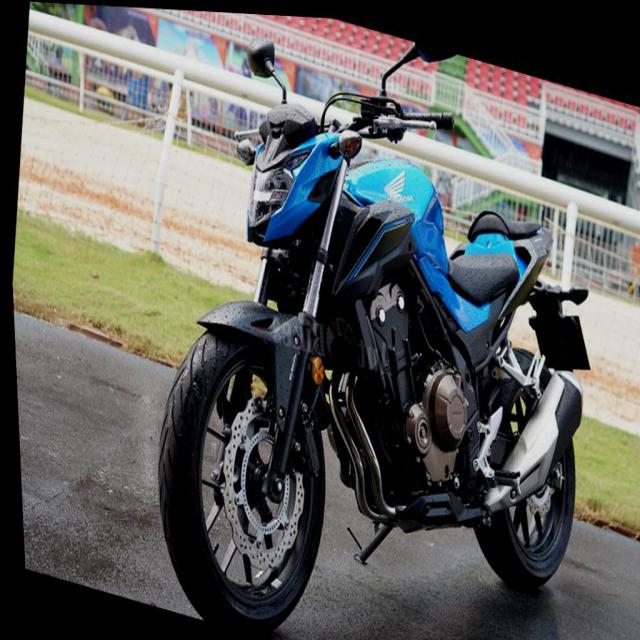CB500F: (123, 29, 622, 639)
